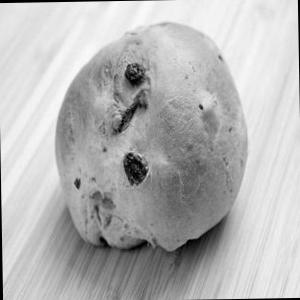bread: (41, 20, 250, 257)
